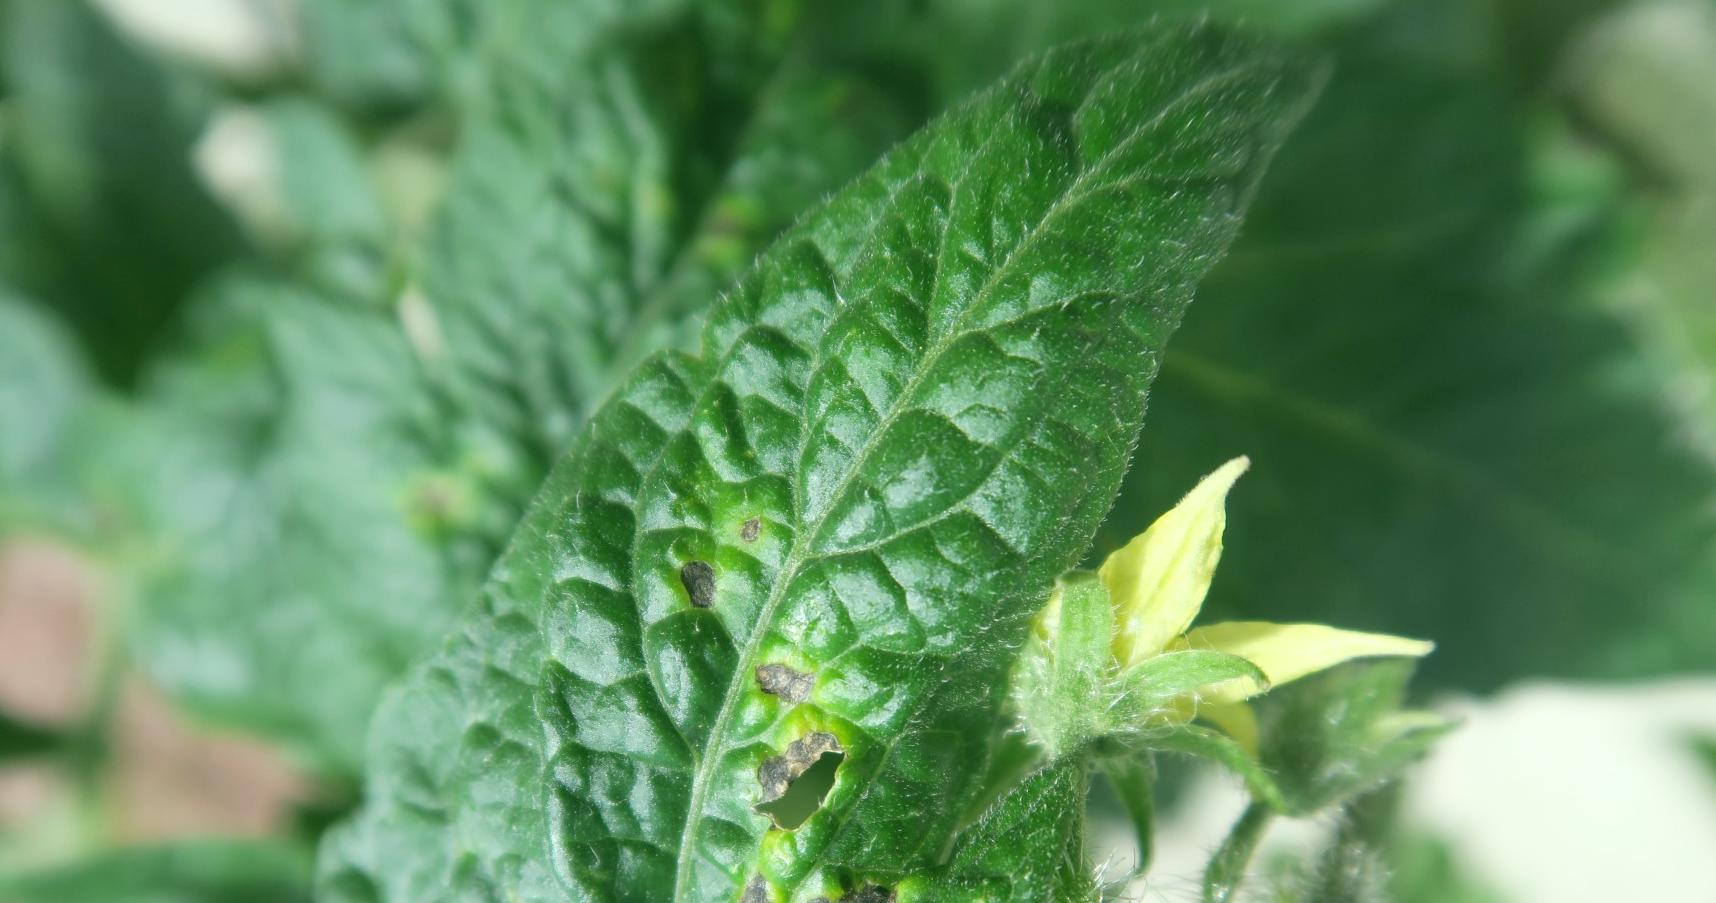Tomato leaf bacterial spot: (363, 8, 1296, 903)
